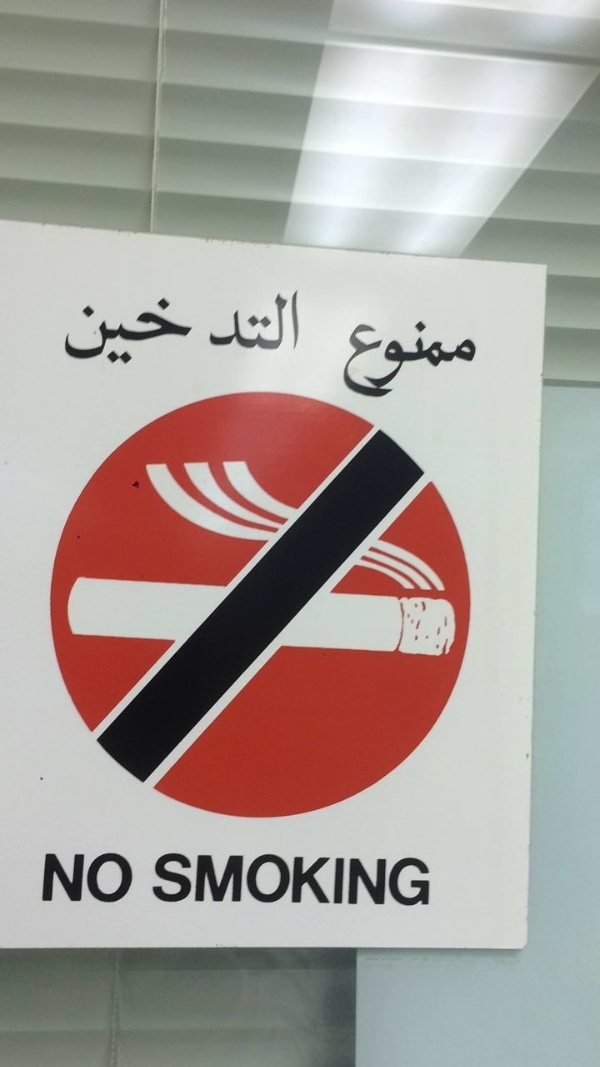text: (353, 316, 368, 406), (369, 316, 384, 406), (385, 316, 400, 406), (401, 316, 416, 406), (417, 316, 432, 406), (433, 316, 448, 406), (449, 316, 464, 406), (465, 316, 480, 406), (340, 316, 352, 406), (81, 296, 96, 367), (97, 296, 112, 367), (113, 296, 128, 367), (129, 296, 144, 367), (145, 296, 160, 367), (161, 296, 176, 367), (177, 296, 192, 367), (225, 286, 240, 355), (241, 286, 256, 355), (257, 286, 272, 355), (273, 286, 288, 355), (289, 286, 302, 355), (212, 286, 224, 355), (161, 855, 176, 908), (177, 855, 192, 908), (193, 855, 208, 908), (209, 855, 224, 908), (225, 855, 240, 908), (241, 855, 256, 908), (257, 855, 272, 908), (273, 855, 288, 908), (289, 855, 304, 908), (305, 855, 320, 908), (321, 855, 336, 908), (337, 855, 352, 908), (353, 855, 368, 908), (369, 855, 384, 908), (385, 855, 400, 908), (401, 855, 416, 908), (49, 852, 64, 904), (65, 852, 80, 904), (81, 852, 96, 904), (97, 852, 112, 904), (113, 852, 128, 904), (417, 855, 431, 908), (71, 296, 80, 367), (193, 296, 199, 367), (152, 855, 160, 908), (42, 852, 48, 904), (129, 852, 134, 904)
